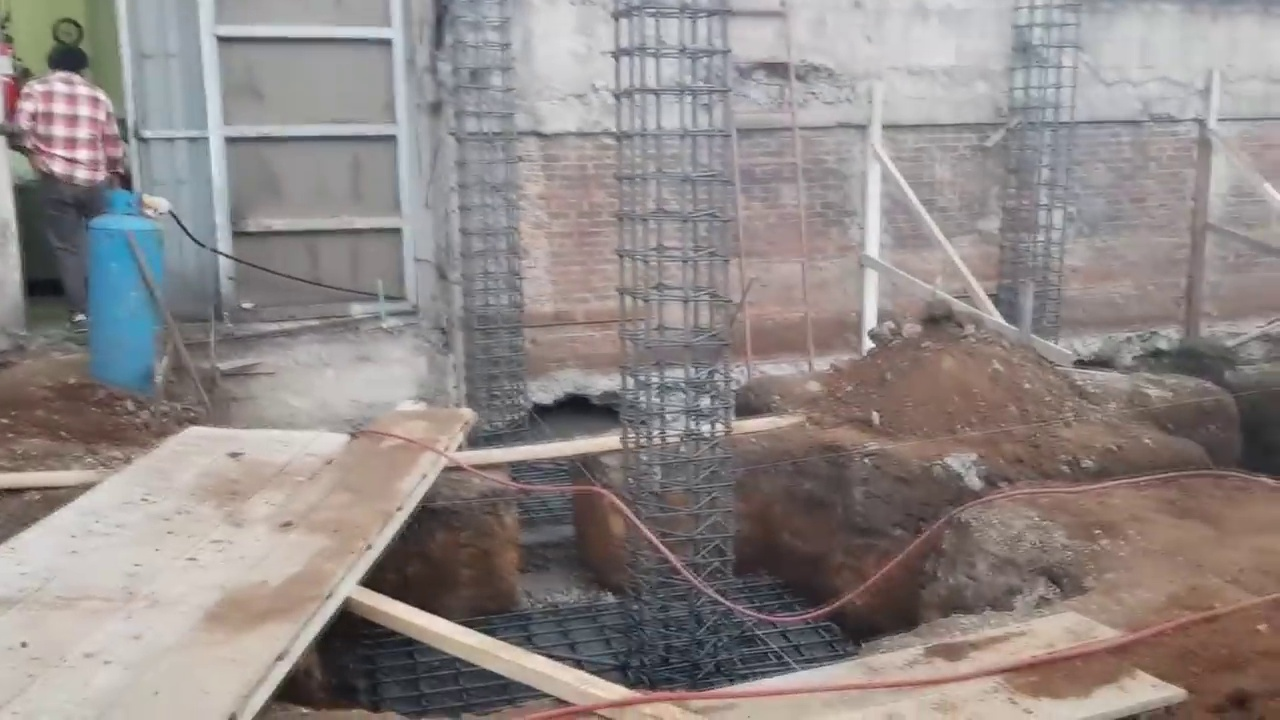helmet-off: (22, 16, 90, 83)
person: (13, 10, 124, 347)
